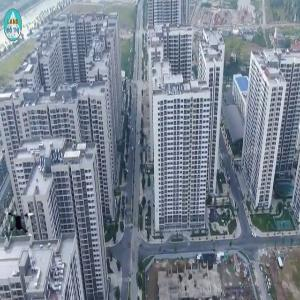drone: (5, 205, 41, 241)
